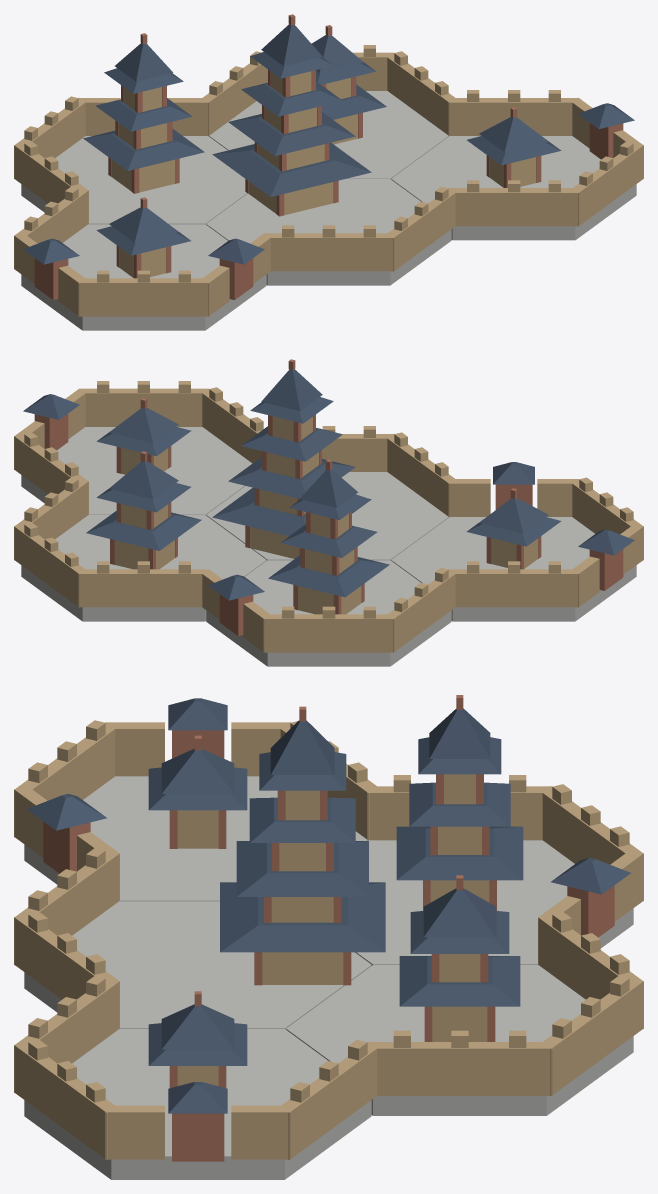
The model's file is castle-large.glb.
The picture shows the model from 3 angles, top to bottom: view 1: azimuth 30°, elevation 25°; view 2: azimuth 150°, elevation 25°; view 3: azimuth 270°, elevation 25°; orthographic projection. The views are drawn at different scales.
Visible parts, largest first — view 1: platform3, platform0, platform4, platform2, platform1, wall8, wall10, wall14, wall13, b0_eave0, wall15, b0_eave1 (+43 smaller); view 2: platform2, platform4, platform1, platform0, platform3, wall1, wall6, wall5, wall15, wall4, wall2, wall10 (+47 smaller); view 3: platform3, platform4, platform1, platform2, platform0, wall3, b0_eave0, b0_eave1, b1_eave0, wall4, wall15, wall13 (+48 smaller).
Boxes of the visible parts, x1,y1,x2,y2 form: platform3: (206, 179, 451, 285); platform0: (21, 136, 247, 224); platform4: (391, 136, 636, 240); platform2: (21, 224, 266, 330); platform1: (209, 91, 448, 179); wall8: (78, 278, 209, 316); wall10: (264, 233, 394, 271); wall14: (449, 188, 579, 226); wall13: (448, 98, 579, 135); b0_eave0: (212, 142, 371, 196); wall15: (571, 145, 643, 226); b0_eave1: (228, 112, 355, 155); platform2: (391, 517, 636, 621); platform4: (21, 427, 252, 515); platform1: (21, 515, 266, 621); platform0: (206, 560, 451, 666); platform3: (206, 472, 448, 560); wall1: (263, 614, 394, 652); wall6: (448, 569, 579, 607); wall5: (78, 569, 209, 607); wall15: (78, 388, 209, 426); wall4: (14, 524, 88, 607); wall2: (384, 569, 458, 652); wall10: (384, 433, 454, 517); platform3: (24, 901, 371, 1029); platform4: (24, 1029, 371, 1179); platform1: (286, 965, 633, 1115); platform2: (24, 776, 368, 901); platform0: (355, 840, 633, 965); wall3: (367, 1042, 552, 1095); b0_eave0: (220, 882, 385, 952); b0_eave1: (236, 841, 368, 896); b1_eave0: (396, 826, 523, 880); wall4: (538, 978, 643, 1095); wall15: (14, 1043, 114, 1159); wall13: (281, 1041, 381, 1159).
Size of the model in its own units: 3.2 by 1.02 by 2.08.
